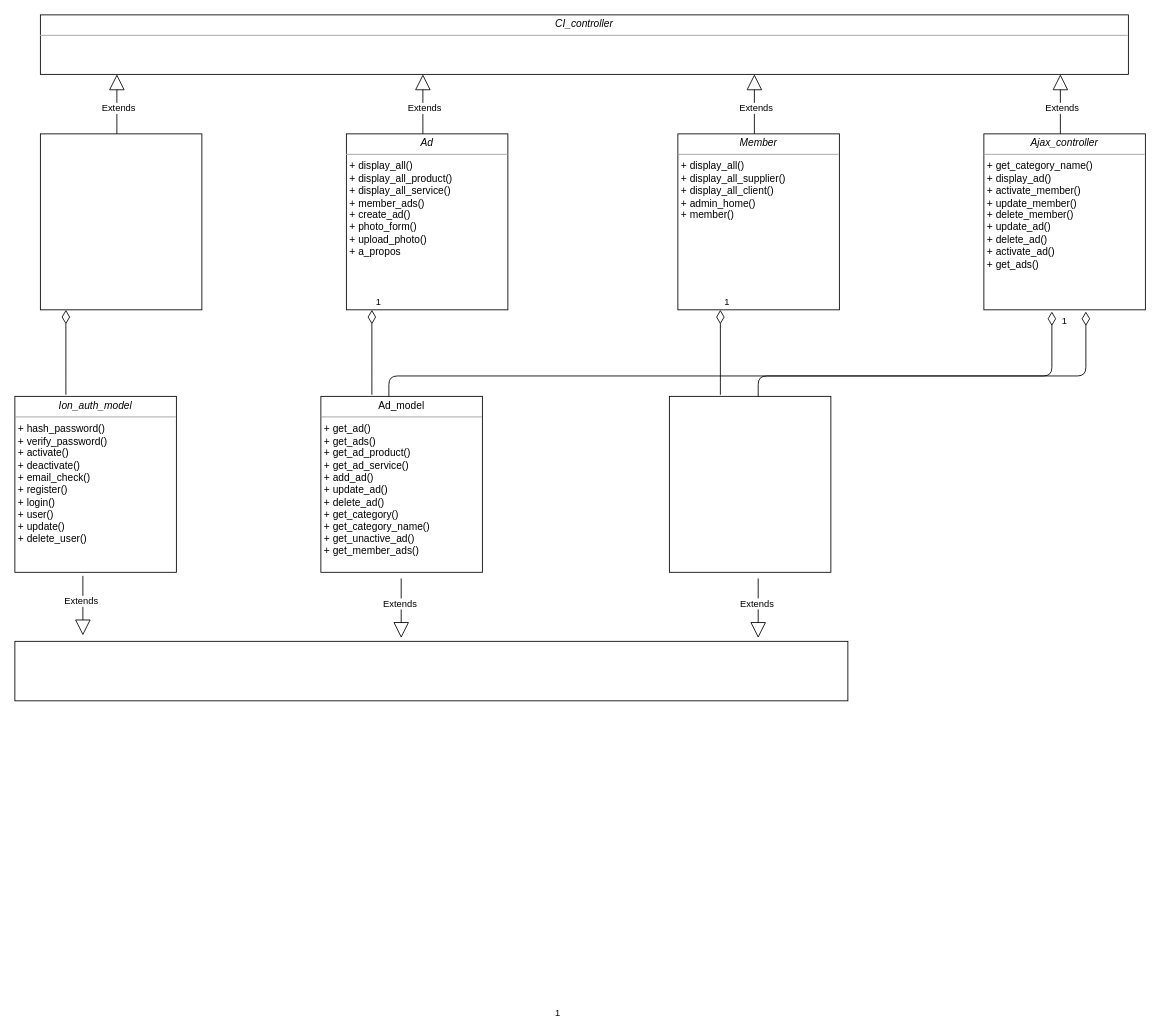
Image size: 1160x1033. Some labels were removed from this diagram. The box of each missing label's shape, as (x1, y1, x2, y2) in pixels:
Auth + login() + logout() + activate() + deactivate() + create_user(): (40, 133, 202, 310)
CI_Model: (14, 640, 848, 701)
Member_model + get_member() + get_by_type() + get_unactive_member(): (669, 396, 831, 572)
